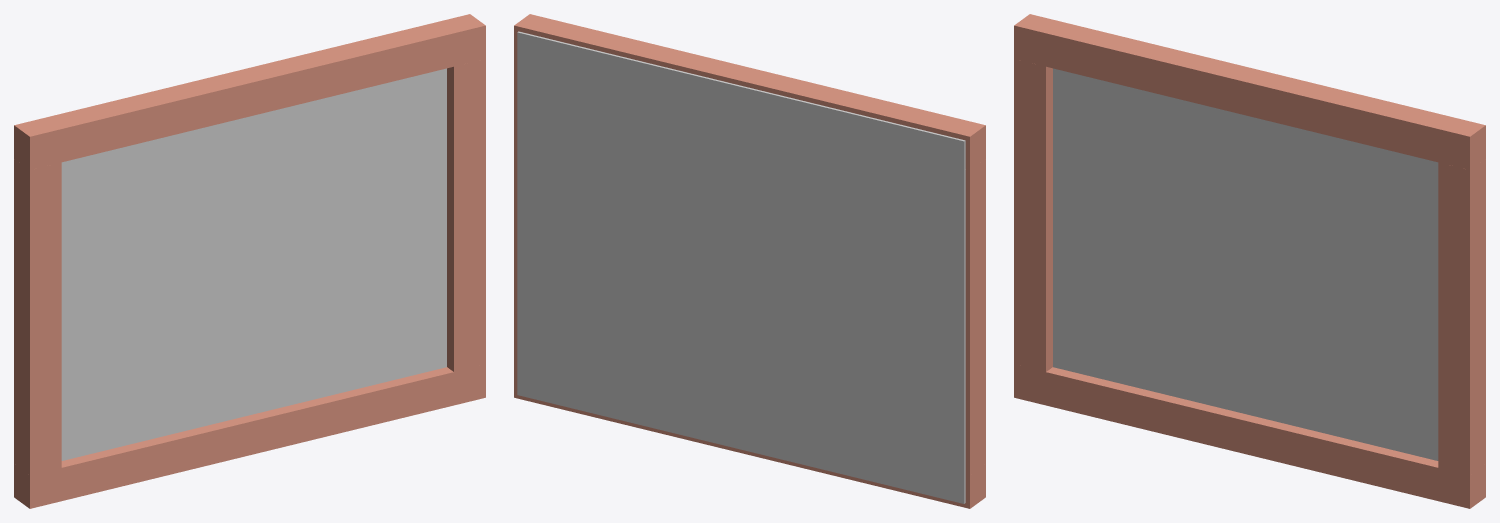
File: frame.glb
3 views of the same model, side by side, from view 1: azimuth 30°, elevation 25°; view 2: azimuth 150°, elevation 25°; view 3: azimuth 330°, elevation 25° (orthographic).
Parts seen in each view (by area): view 1: picture, bar_top, bar_bottom, bar_left, bar_right; view 2: backing, bar_top, bar_left, bar_bottom, bar_right; view 3: picture, bar_top, bar_bottom, bar_right, bar_left.
Part boxes in pixels (box(x1,y1,x2,y2)): picture: box(61, 68, 446, 460); bar_top: box(14, 14, 485, 169); bar_bottom: box(14, 364, 485, 508); bar_left: box(14, 159, 61, 475); bar_right: box(447, 59, 485, 371); backing: box(517, 31, 965, 503); bar_top: box(514, 14, 985, 169); bar_left: box(965, 159, 985, 475); bar_bottom: box(514, 364, 985, 508); bar_right: box(514, 59, 517, 364); picture: box(1053, 68, 1438, 460); bar_top: box(1014, 14, 1485, 169); bar_bottom: box(1014, 364, 1485, 508); bar_right: box(1438, 159, 1485, 475); bar_left: box(1014, 59, 1052, 371).
Bounding box in the file's own units: 1 × 0.7799 × 0.065.
